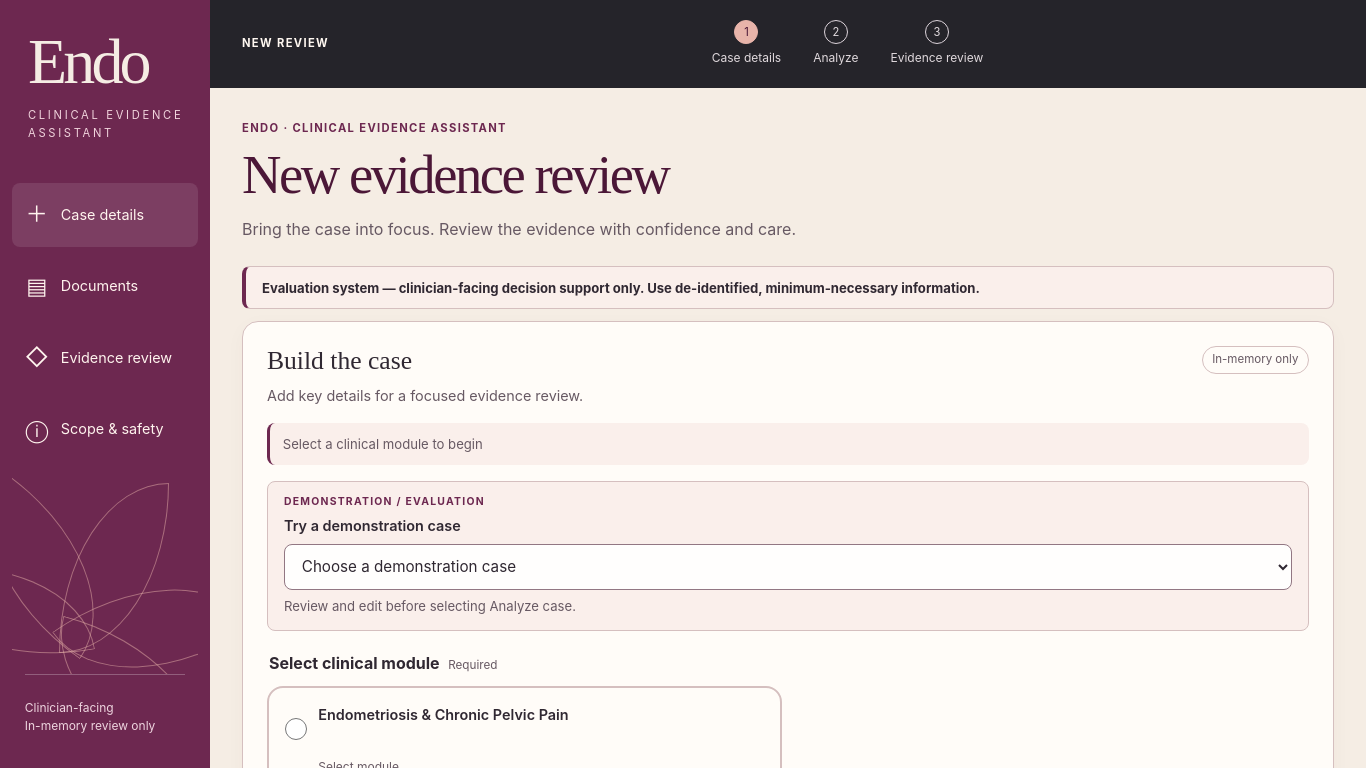
competition presentation with mocked HTTP only › loads editable presets without submitting and opens unresolved source details internally
expect the text "Evaluation system — clinician-facing decision support only. Use de-identified, minimum-necessary information." is shown: met, box [262,280,980,296]
Click the radio button showing "module_01_endo" at (296, 729), box [285,706,307,752]
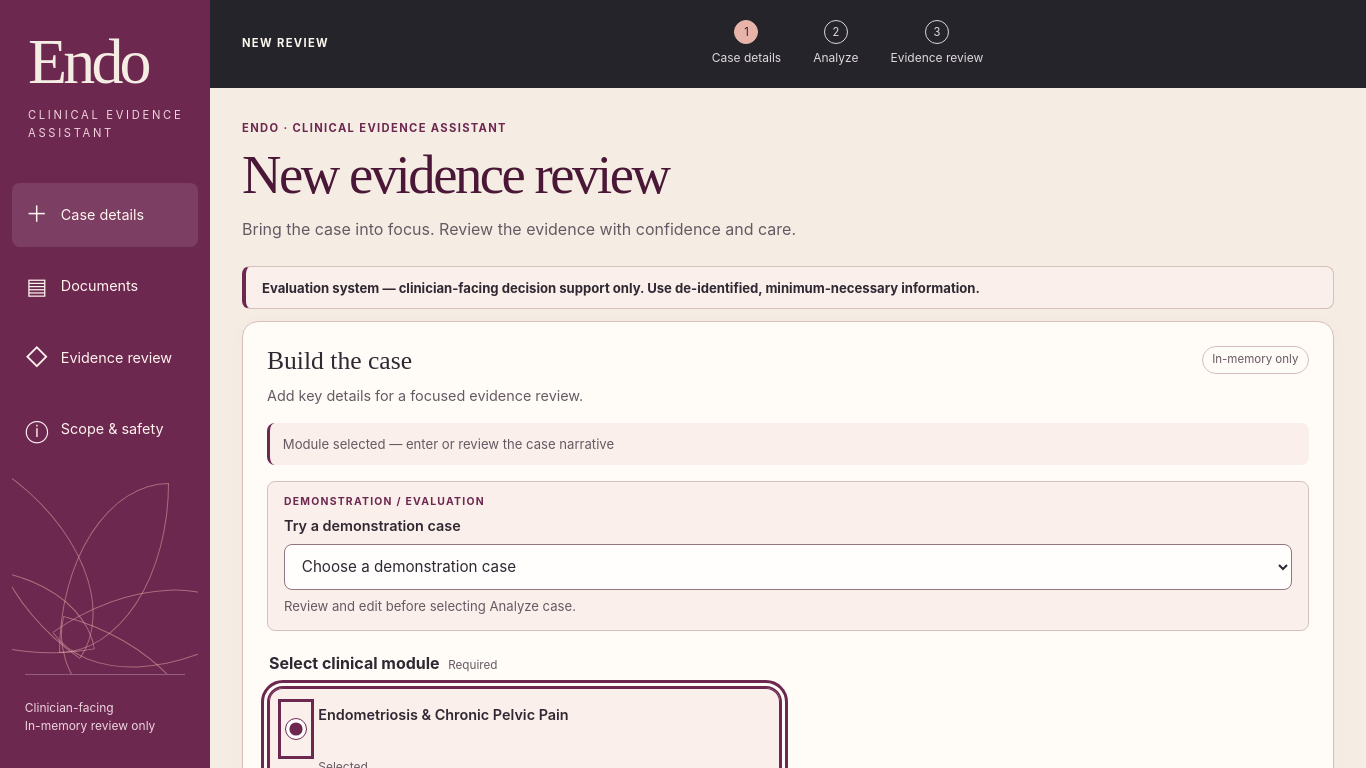
Select "Brief" in the dropdown labelled "Try a demonstration case" at (788, 567), box [284,544,1292,590]
(page scrolled)
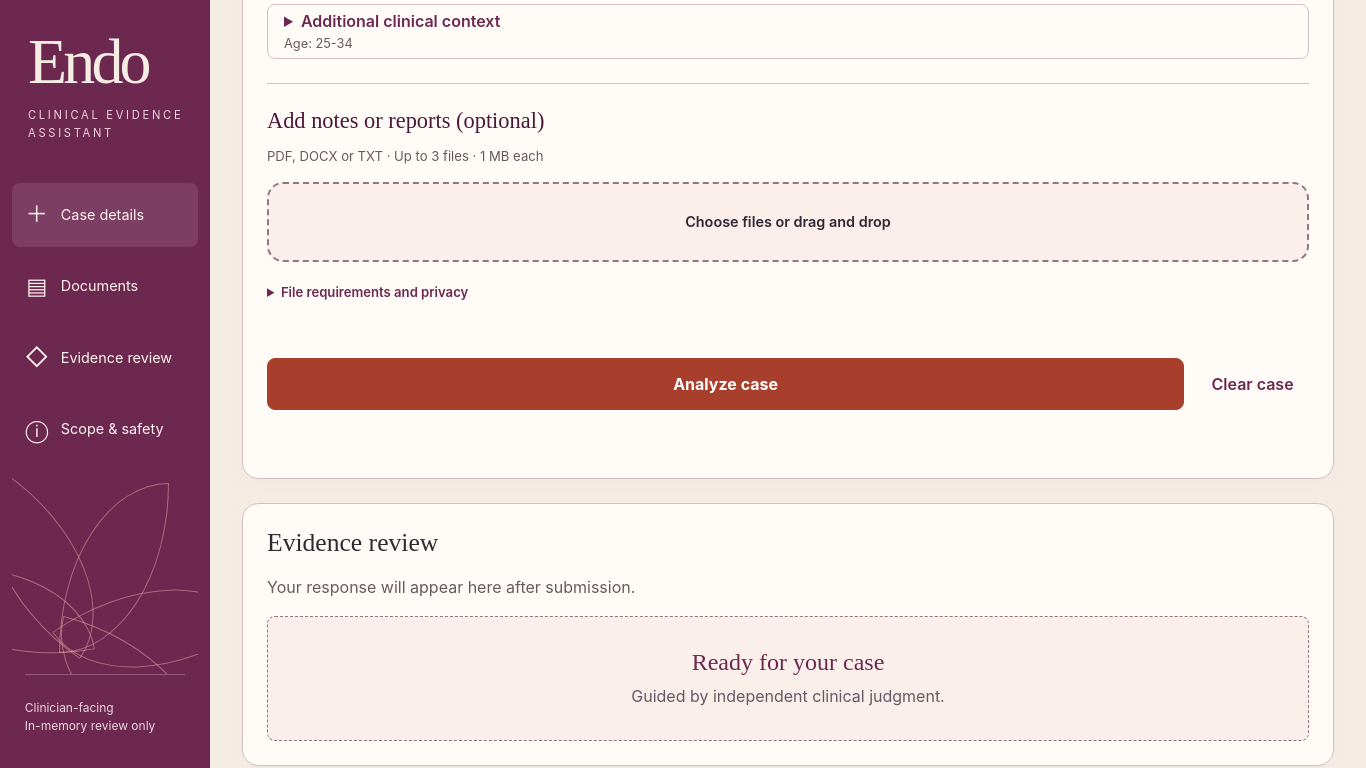
Click the button "Analyze case" at (726, 384), box [267,358,1184,410]
(page scrolled)
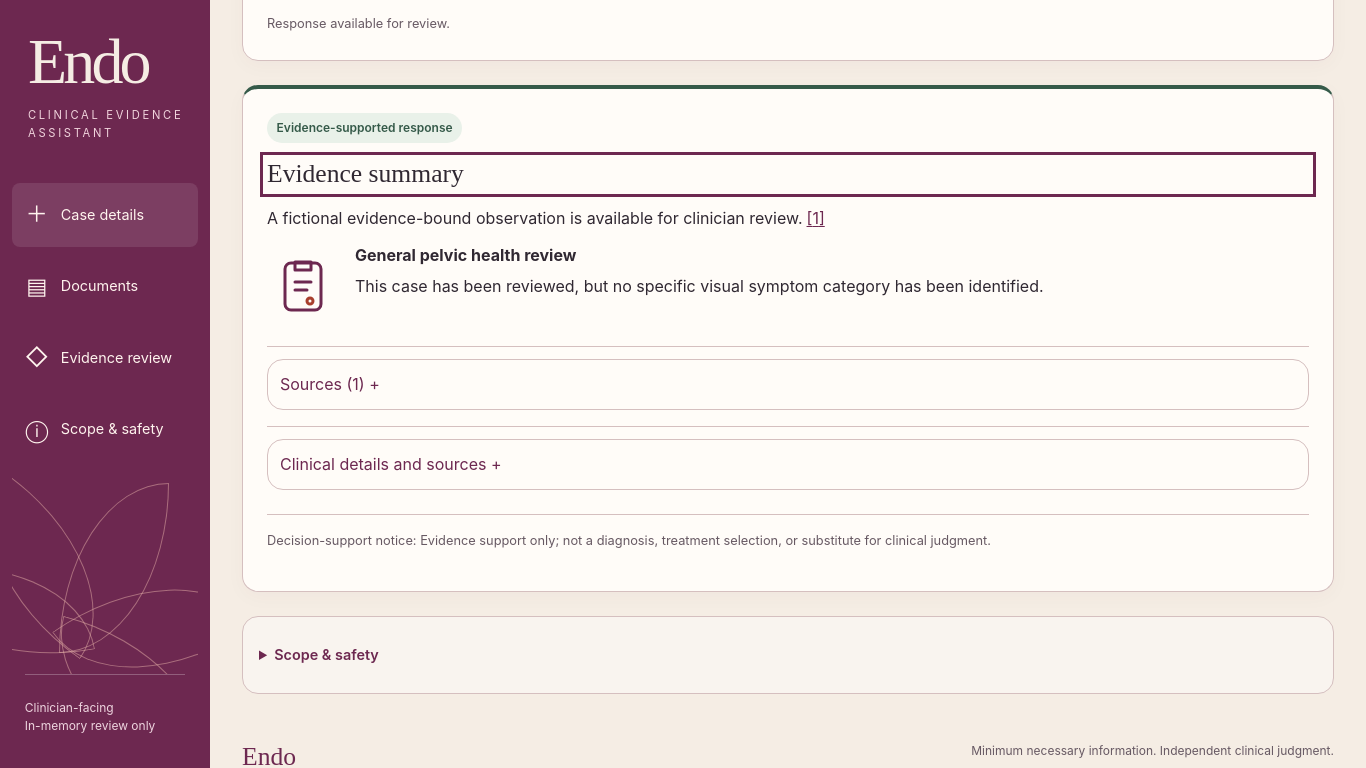
expect the heading "Evidence summary" is shown: met, box [267,159,464,188]
expect the element with class "directAnswer" is shown: met, box [267,206,829,230]
Click the button "Sources (1) +" at (322, 384), box [267,359,1309,410]
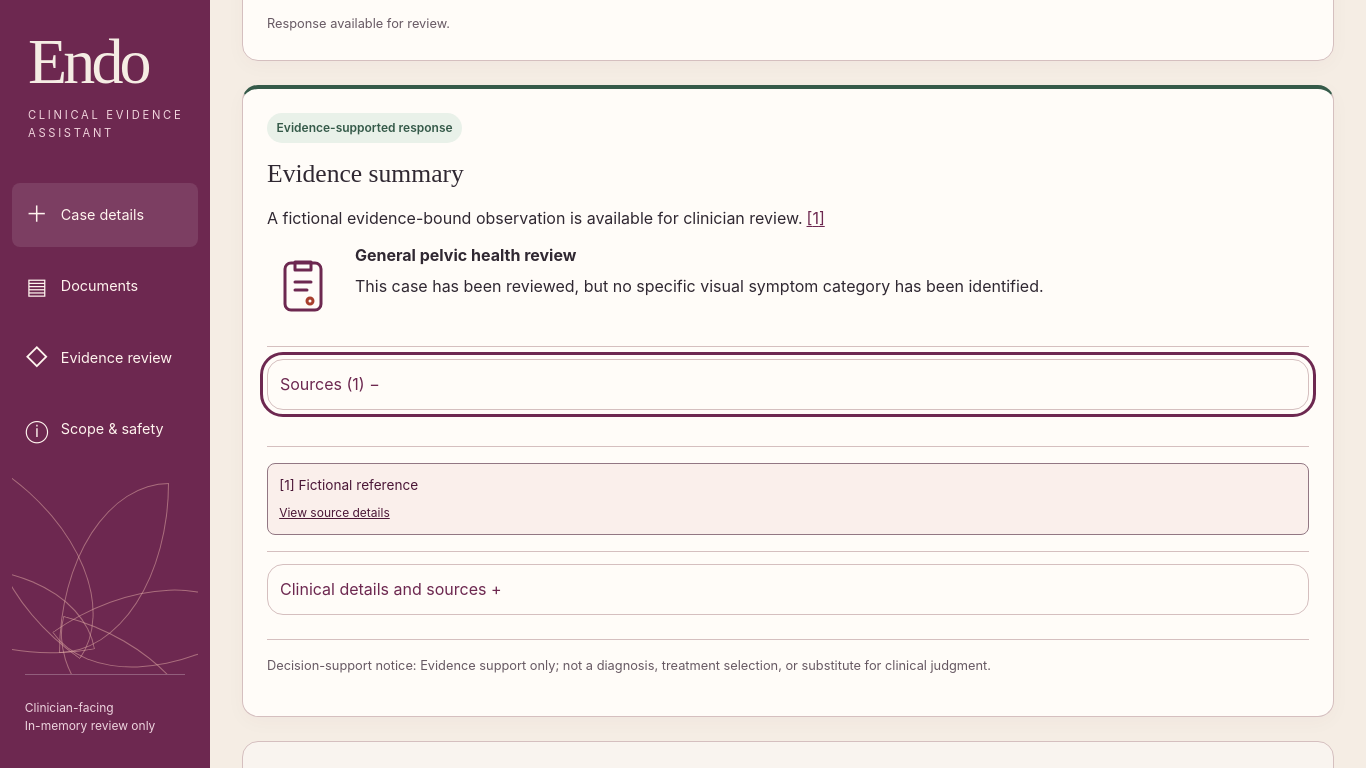
expect the button with aria-label "[1] View source details" shows "View source details": met
Click the button "[1] Fictional reference View source details" at (358, 485), box [267,463,1309,535]
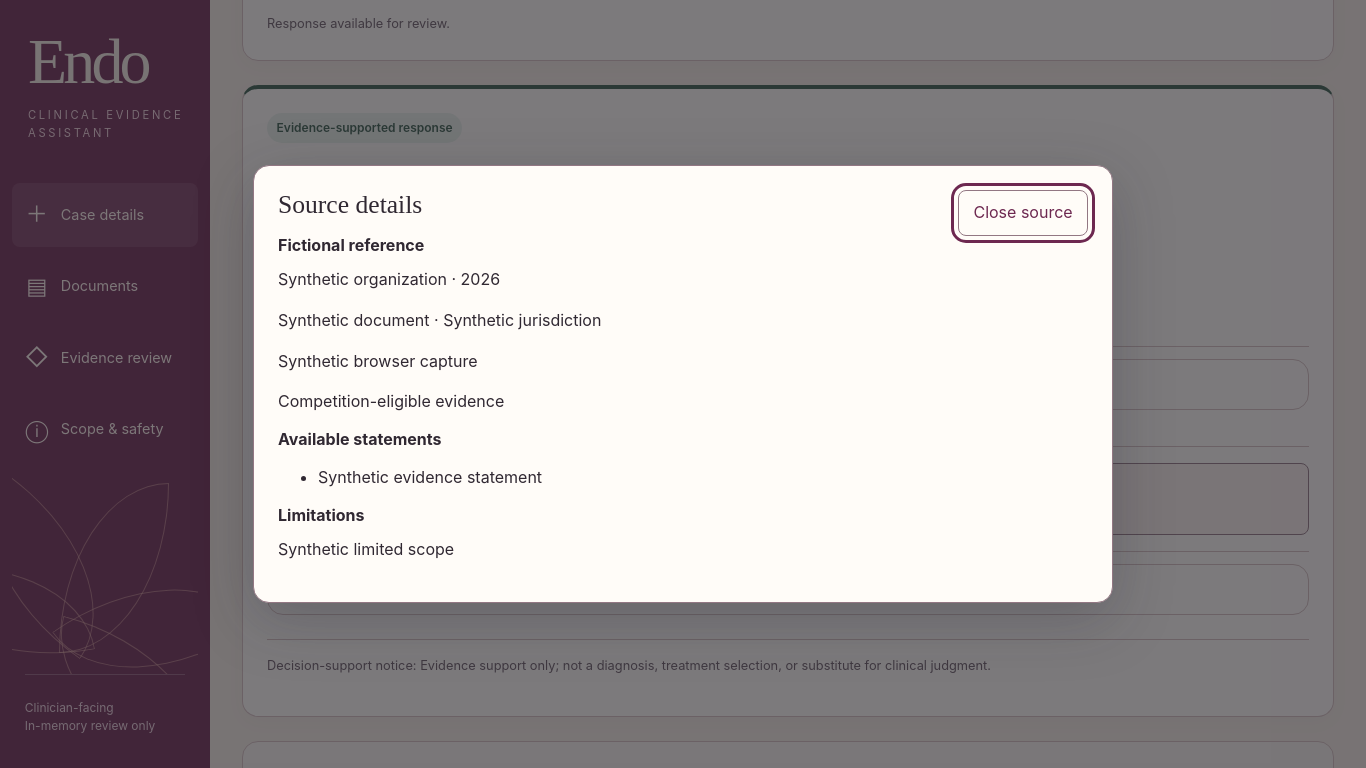
expect the text "Synthetic browser capture" is shown: met, box [278,351,478,371]
Press Escape
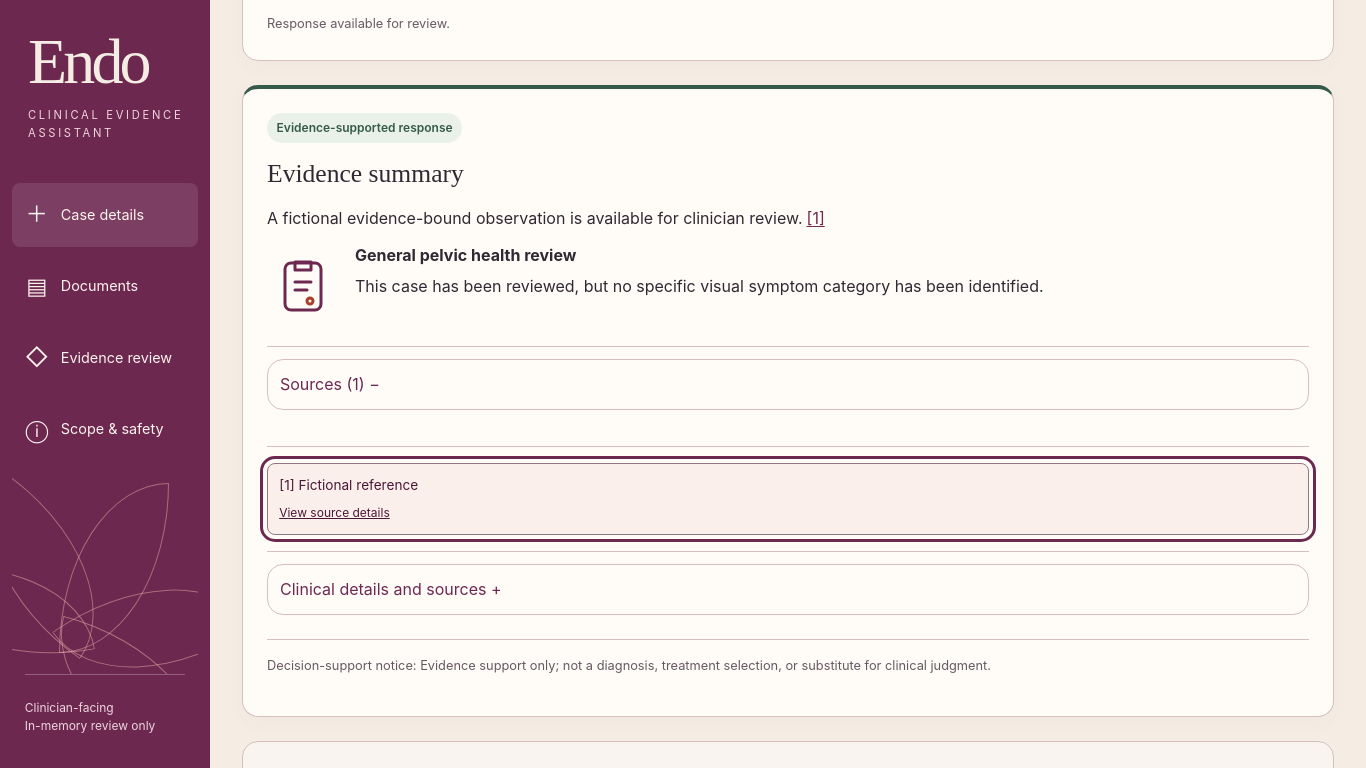
expect the dialog is gone: met
